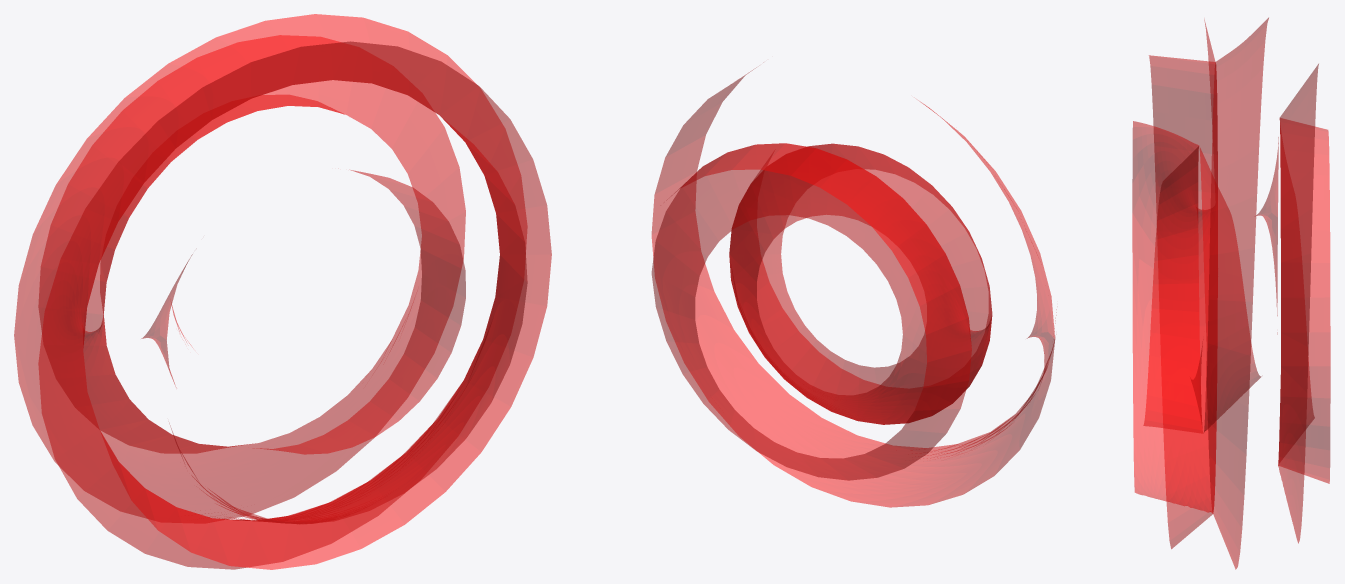
File: l9_1_website.glb
The picture shows the model from 3 angles, left to right: view 1: azimuth 30°, elevation 25°; view 2: azimuth 150°, elevation 25°; view 3: azimuth 270°, elevation 25°; orthographic projection. The views are drawn at different scales.
Parts seen in each view (by area): view 1: l9_1; view 2: l9_1; view 3: l9_1.
Boxes of the visible parts, x1,y1,x2,y2 form: l9_1: (14, 14, 551, 569); l9_1: (651, 67, 1056, 507); l9_1: (1132, 17, 1330, 569).
Size of the model in its own units: 169 by 168 by 60.
